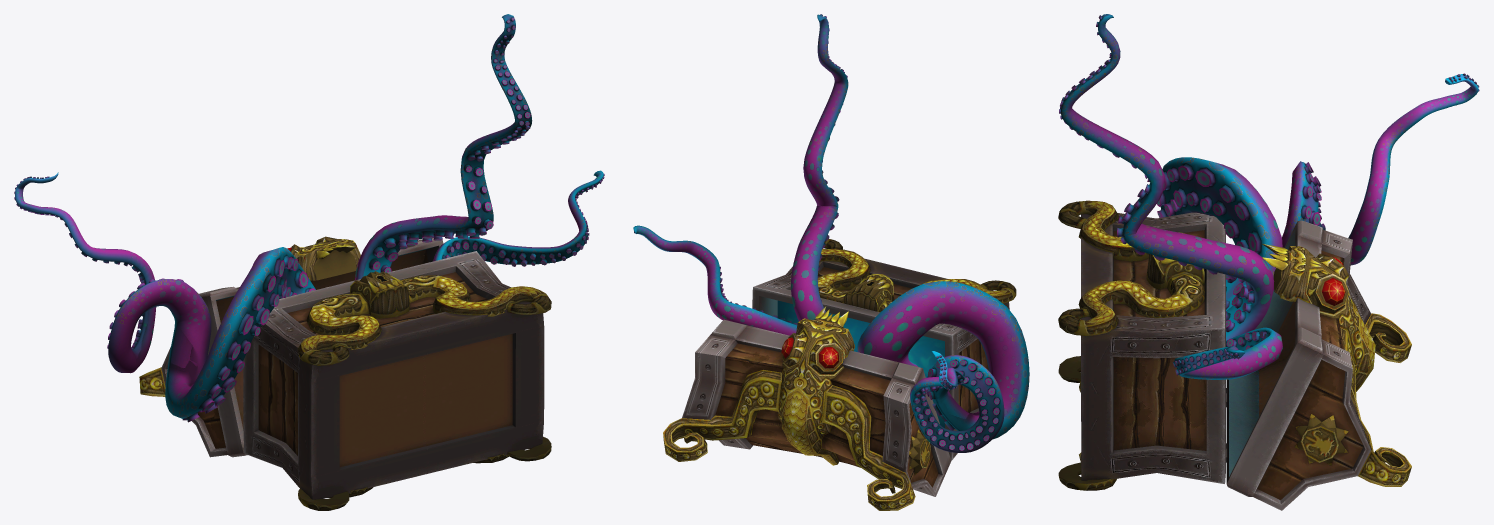
File: pirate_chest.fbx
3 renders of one model, left to right at view 1: azimuth 30°, elevation 25°; view 2: azimuth 150°, elevation 25°; view 3: azimuth 270°, elevation 25°, orthographic. The views are drawn at different scales.
Visible parts, largest first — view 1: Txt_Pirate_A_Chest_A_A, Txt_Pirate_A_Octopus_A; view 2: Txt_Pirate_A_Chest_A_A, Txt_Pirate_A_Octopus_A; view 3: Txt_Pirate_A_Chest_A_A, Txt_Pirate_A_Octopus_A.
Boxes of the visible parts, left/top/right/bottom form: Txt_Pirate_A_Chest_A_A: left=139, top=236, right=551, bottom=510; Txt_Pirate_A_Octopus_A: left=14, top=14, right=604, bottom=422; Txt_Pirate_A_Chest_A_A: left=663, top=239, right=1016, bottom=510; Txt_Pirate_A_Octopus_A: left=633, top=14, right=1029, bottom=452; Txt_Pirate_A_Chest_A_A: left=1058, top=200, right=1411, bottom=510; Txt_Pirate_A_Octopus_A: left=1059, top=14, right=1479, bottom=379.
Bounding box in the file's own units: 364 × 324 × 258.
Materials: 2 (2 with a texture image).
